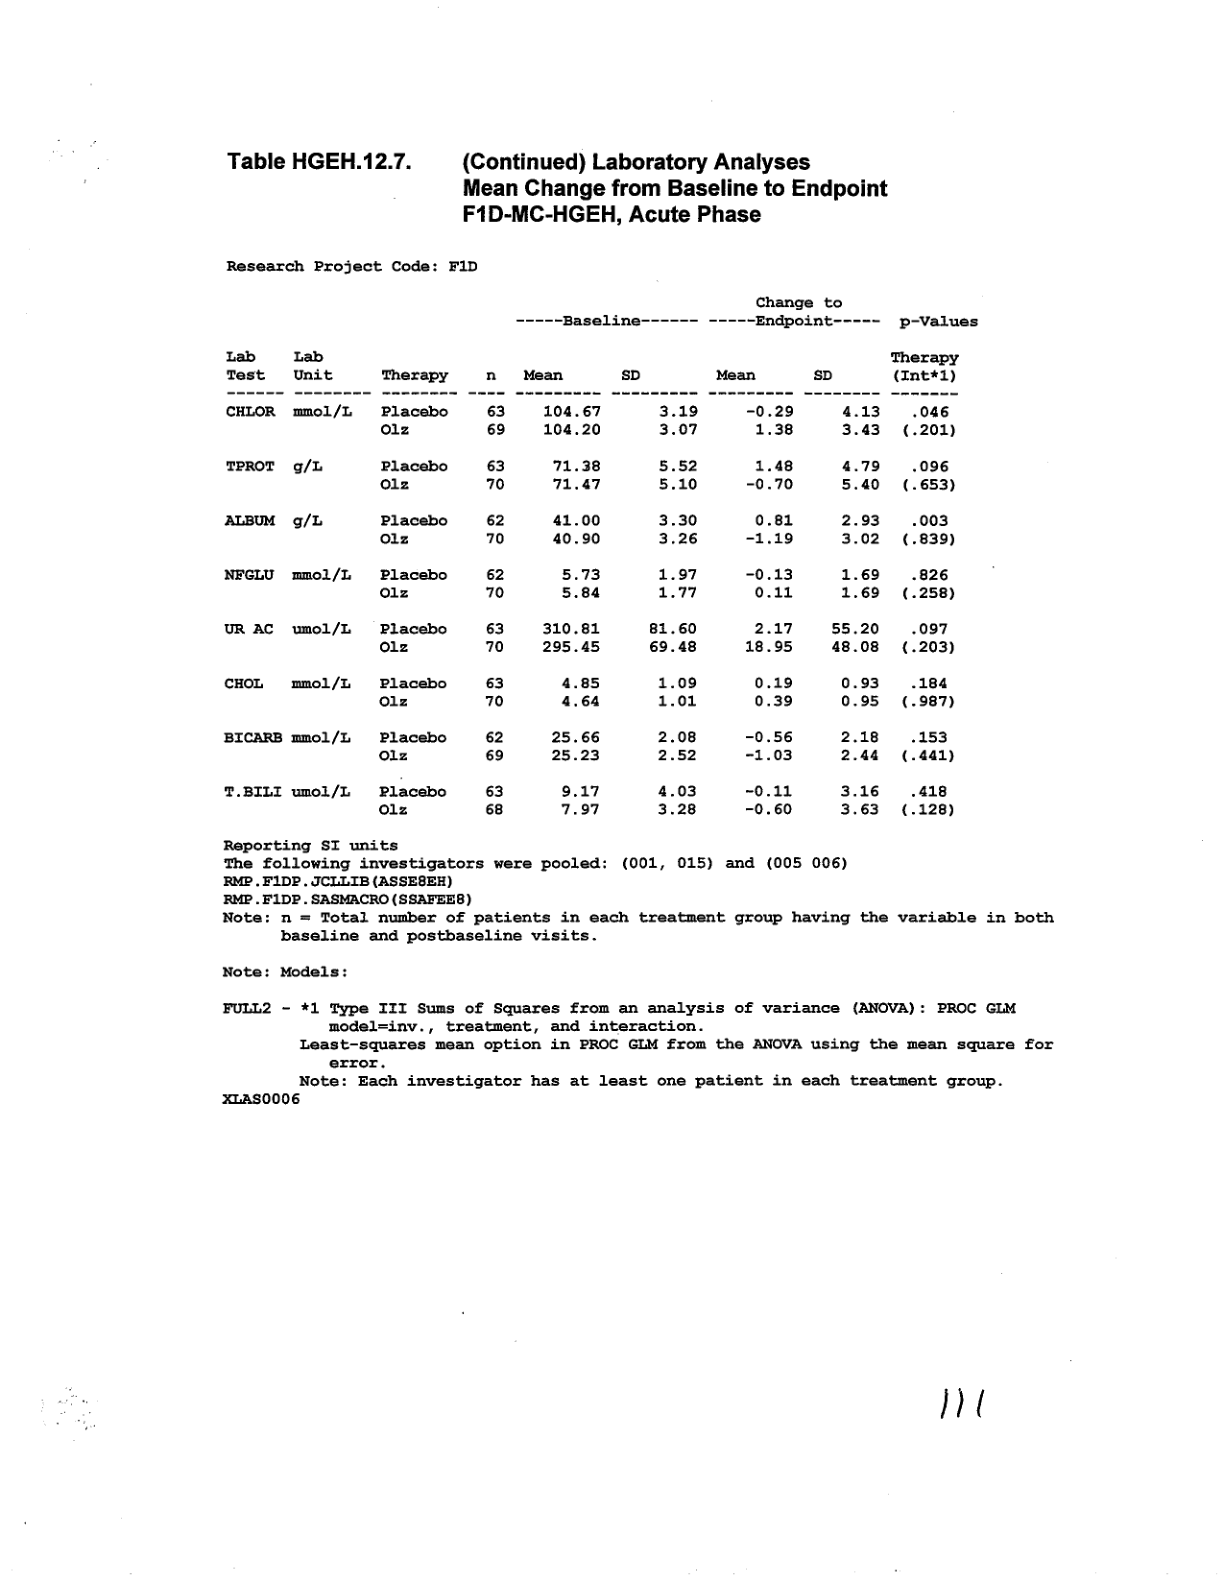nolines: (220, 290, 980, 818)
